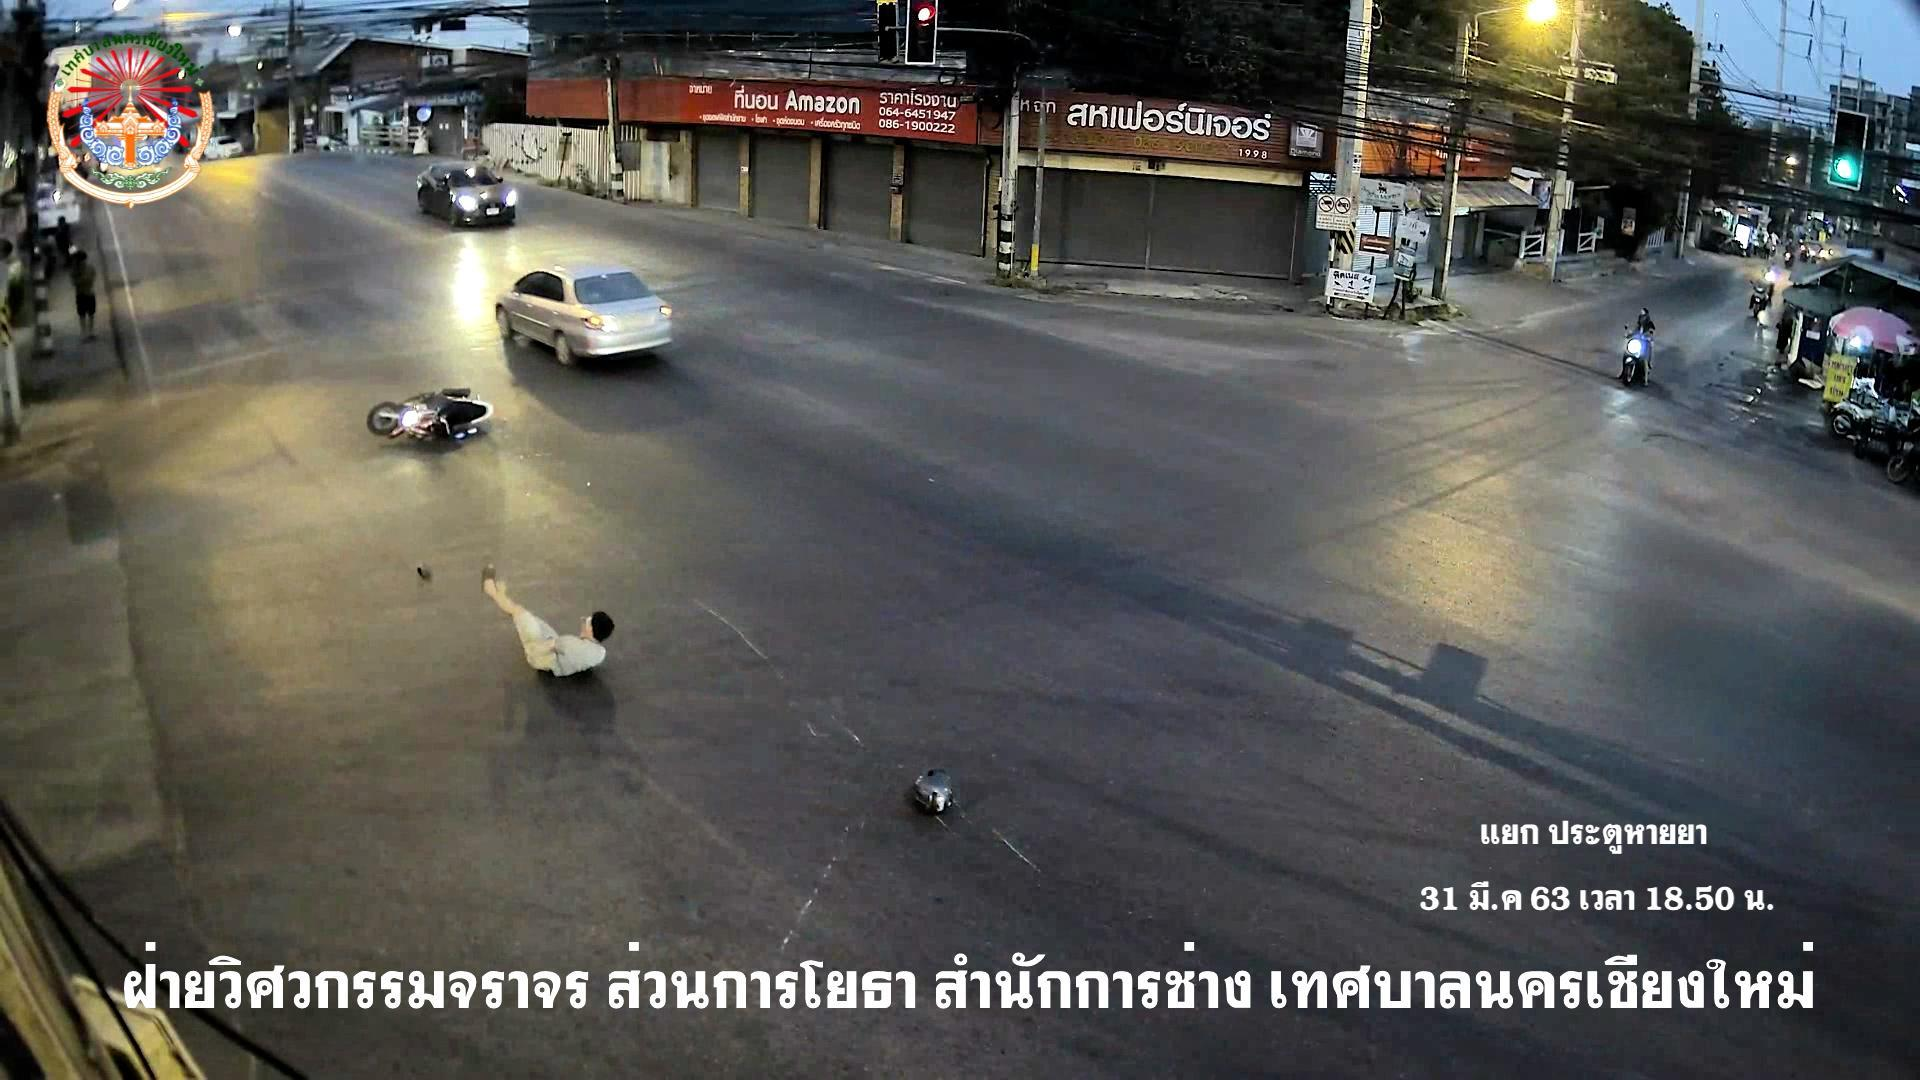accident: (471, 553, 633, 688)
